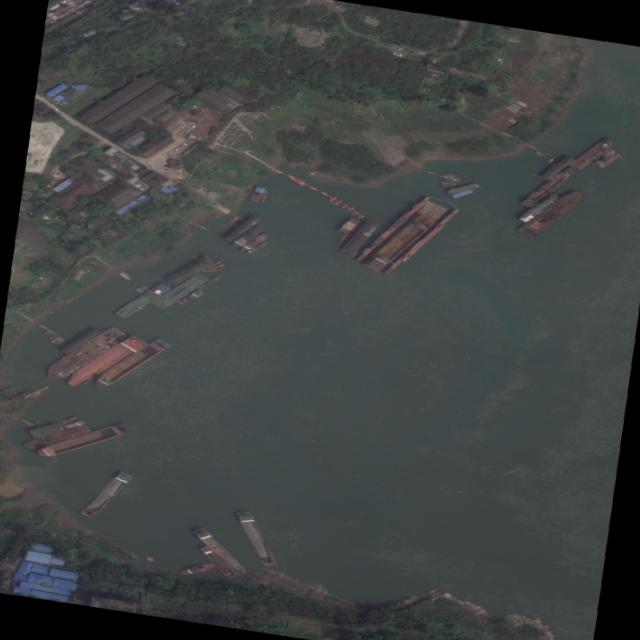ship: (40, 326, 129, 380), (360, 214, 436, 273), (62, 336, 146, 388), (93, 338, 170, 389), (515, 189, 584, 238), (36, 424, 132, 458), (190, 528, 247, 576), (78, 472, 132, 518), (235, 512, 277, 566), (563, 138, 616, 176), (152, 274, 207, 310), (520, 171, 571, 209), (114, 285, 170, 319), (21, 426, 91, 451), (164, 256, 215, 286), (518, 194, 559, 223), (223, 216, 261, 242), (198, 547, 232, 576), (230, 227, 264, 249), (238, 234, 268, 253), (179, 563, 215, 574), (177, 291, 204, 305), (197, 276, 221, 291), (245, 242, 268, 254)
